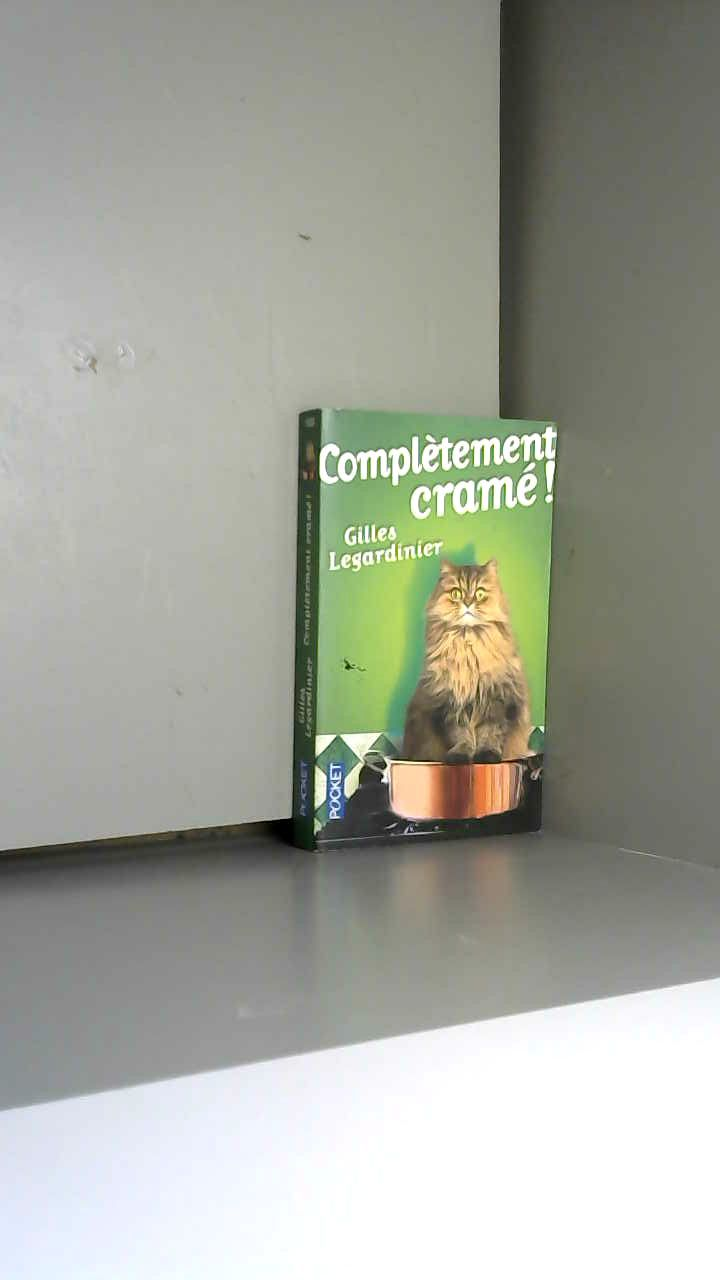book: (258, 379, 591, 875)
